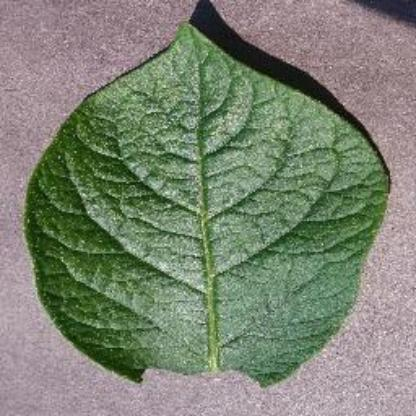Healthy-plant: (25, 7, 410, 414)
